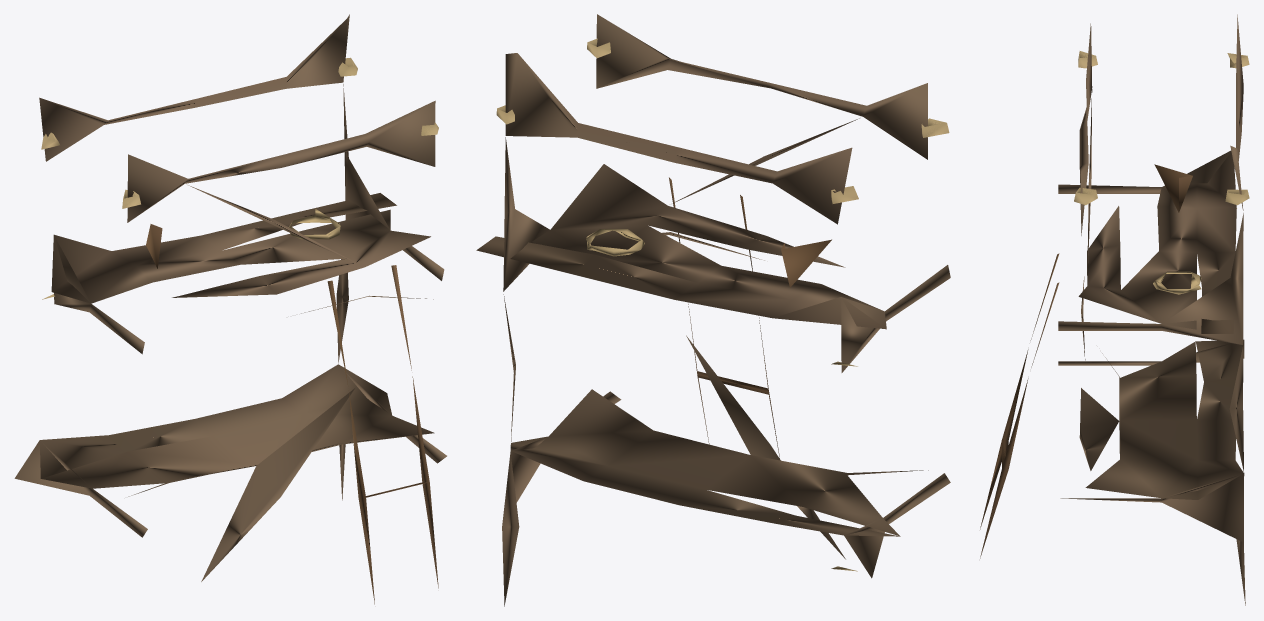
File: build_scaffolding_t1.glb
3 renders of one model, left to right at view 1: azimuth 30°, elevation 25°; view 2: azimuth 150°, elevation 25°; view 3: azimuth 270°, elevation 25°, orthographic. The views are drawn at different scales.
Parts seen in each view (by area): view 1: wood, wood_dark, rope; view 2: wood, rope, wood_dark; view 3: wood, wood_dark, rope.
Boxes of the visible parts, left/top/right/bottom form: wood: left=14, top=14, right=446, bottom=581; wood_dark: left=146, top=224, right=438, bottom=604; rope: left=41, top=57, right=438, bottom=299; wood: left=476, top=14, right=950, bottom=606; rope: left=496, top=38, right=949, bottom=571; wood_dark: left=669, top=177, right=831, bottom=458; wood: left=1058, top=14, right=1245, bottom=605; wood_dark: left=980, top=164, right=1192, bottom=558; rope: left=1074, top=51, right=1249, bottom=294.
Size of the model in its own units: 2.26 by 2.95 by 1.57.
